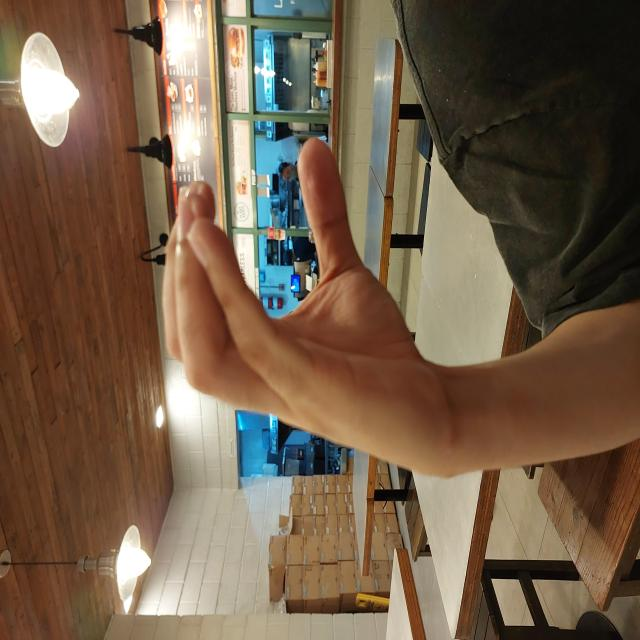C: (172, 160, 505, 458)
